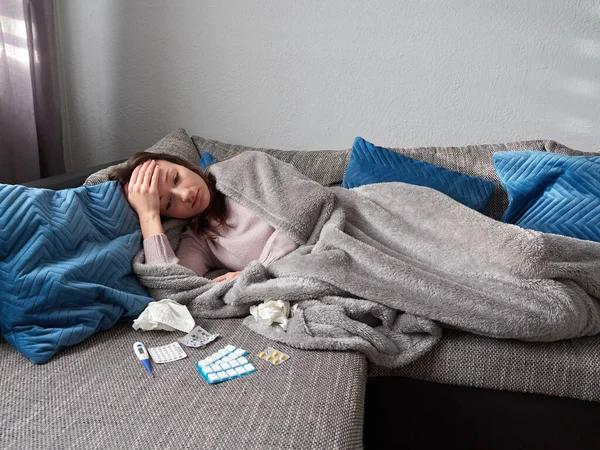blanket: (132, 150, 600, 369)
sweater: (140, 197, 297, 279)
